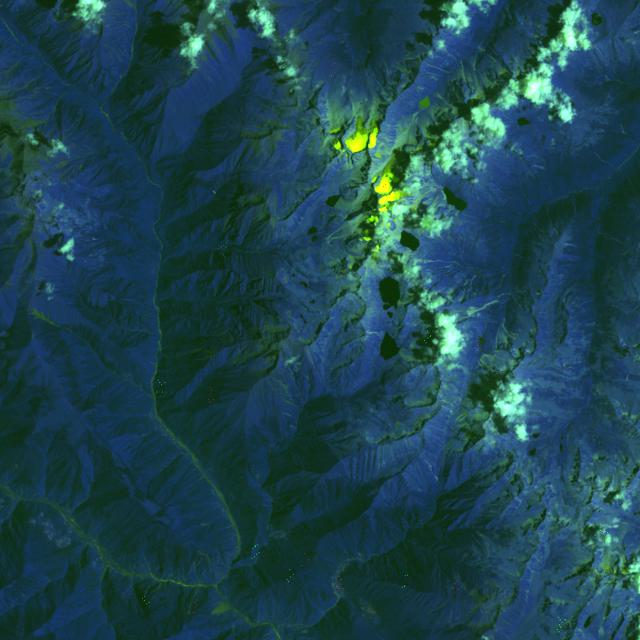landslides: (278, 337, 303, 401), (269, 373, 297, 405), (239, 212, 265, 244), (471, 53, 487, 99), (201, 552, 224, 577), (485, 55, 510, 78), (305, 346, 321, 378), (420, 452, 438, 480), (403, 472, 424, 493), (546, 204, 559, 236), (436, 92, 456, 112), (593, 403, 611, 425), (598, 230, 623, 245), (594, 152, 616, 169), (443, 4, 476, 15), (481, 72, 498, 93), (20, 238, 33, 265), (20, 249, 35, 272), (408, 465, 424, 486), (417, 460, 429, 487), (440, 18, 466, 30), (212, 602, 232, 615), (494, 625, 511, 640), (499, 611, 513, 628), (222, 213, 236, 230), (430, 50, 448, 62), (281, 397, 298, 409), (496, 623, 514, 634), (194, 561, 202, 585), (423, 60, 442, 70), (282, 412, 298, 423), (380, 487, 390, 504), (460, 60, 467, 84), (576, 300, 594, 308), (444, 13, 462, 20), (320, 595, 328, 610), (402, 94, 412, 105), (342, 547, 352, 558), (123, 0, 135, 9)
